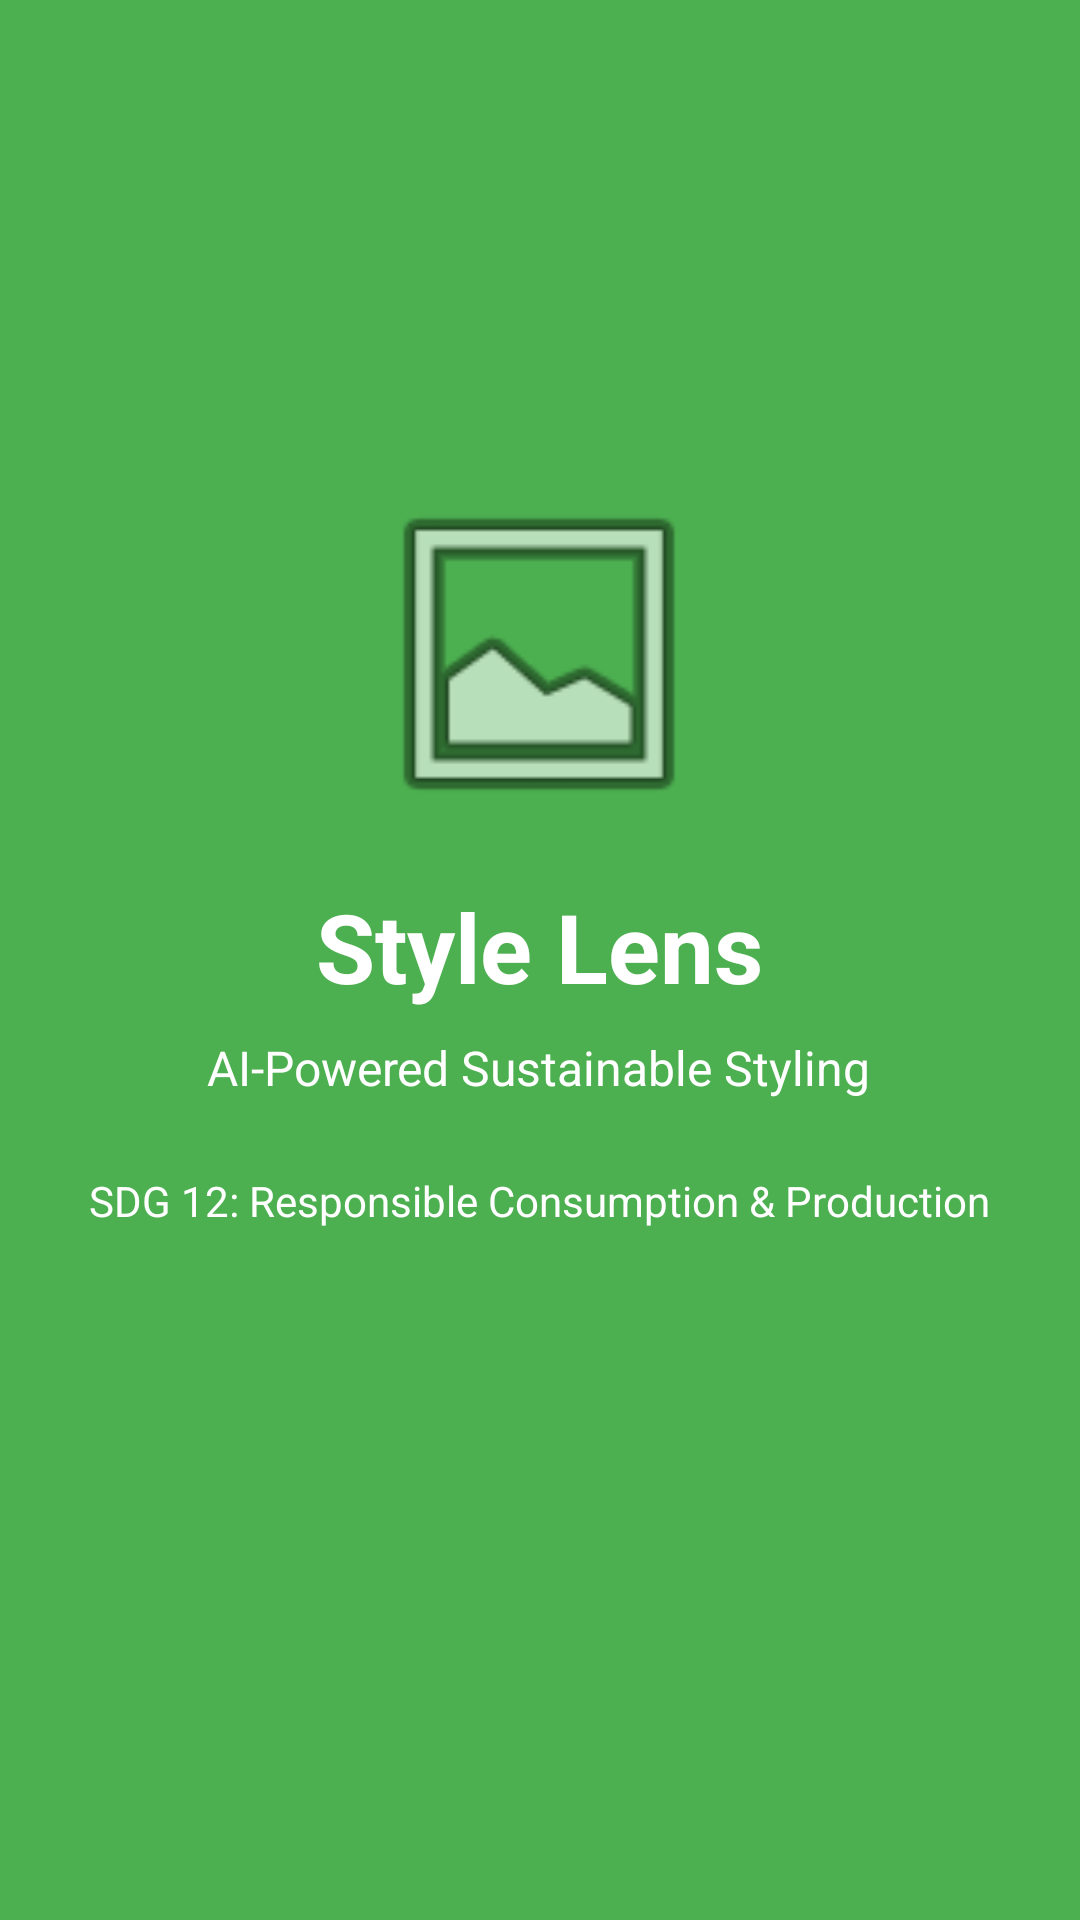

Screen size 1080 x 1920. Icon name, then its box in pixels as bbox=[x1, y1, x2, y2]:
gallery: bbox=[404, 518, 674, 790]
